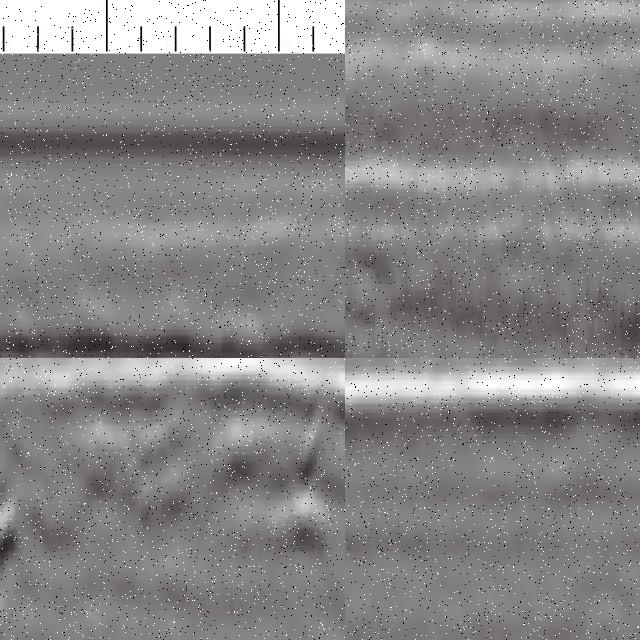loose: (1, 359, 330, 635)
